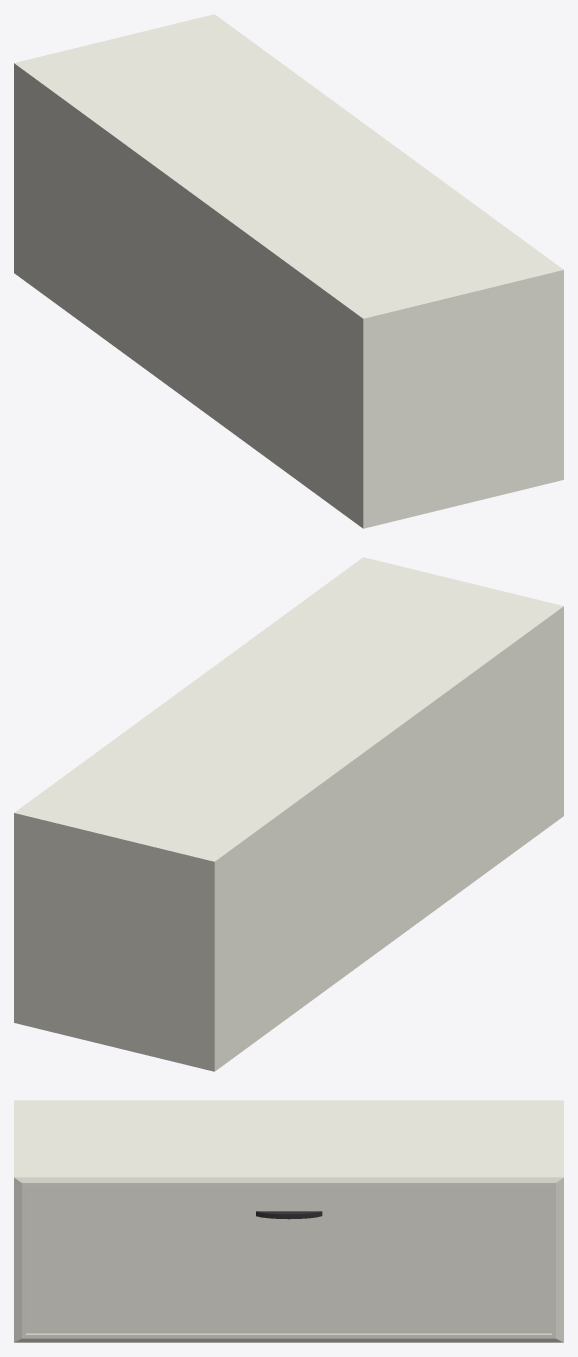
Rendered from Kitchen_Long_Single_Top_Shelf.fbx.
The picture shows the model from 3 angles, top to bottom: view 1: azimuth 30°, elevation 25°; view 2: azimuth 150°, elevation 25°; view 3: azimuth 270°, elevation 25°; orthographic projection. The views are drawn at different scales.
Parts seen in each view (by area): view 1: polySurface11; view 2: polySurface11; view 3: polySurface11.
Part boxes in pixels (x1,y1,x2,y2): polySurface11: (14, 14, 563, 528); polySurface11: (14, 557, 563, 1071); polySurface11: (14, 1100, 563, 1342).
Bounding box in the file's own units: 20.69 × 19.97 × 60.23.
